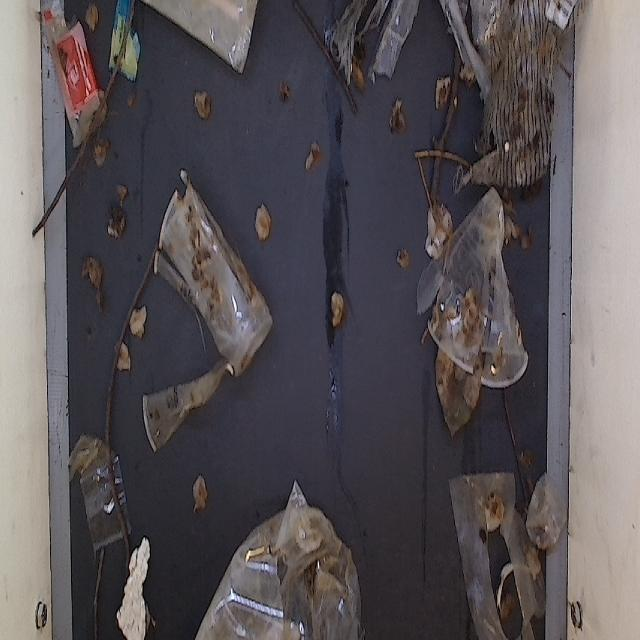food_wrapping: (40, 6, 108, 153), (107, 0, 145, 90)
plastic_cups: (149, 160, 268, 446), (407, 180, 548, 413)
plastic_films: (440, 462, 602, 640), (196, 490, 377, 640), (438, 0, 568, 201), (327, 0, 435, 105), (144, 0, 276, 84), (66, 422, 138, 554)
styrofoam: (122, 531, 162, 640)
